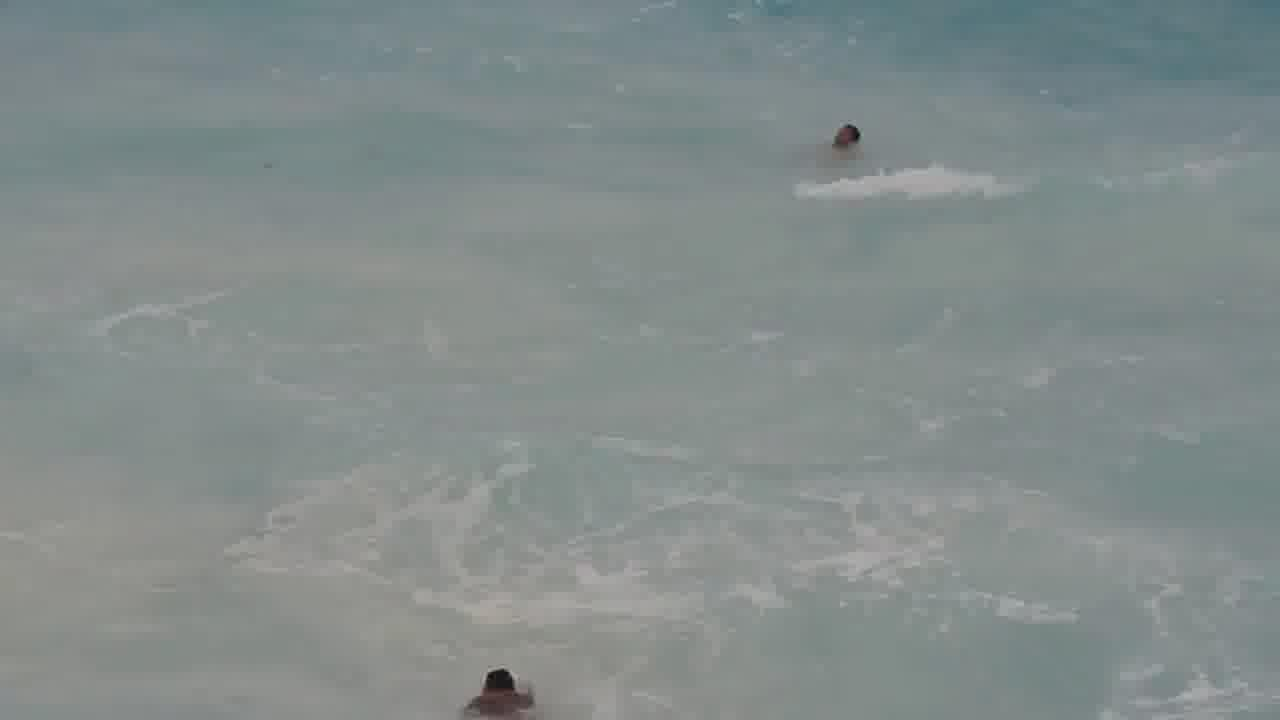human: (455, 659, 538, 720), (812, 107, 875, 162)
